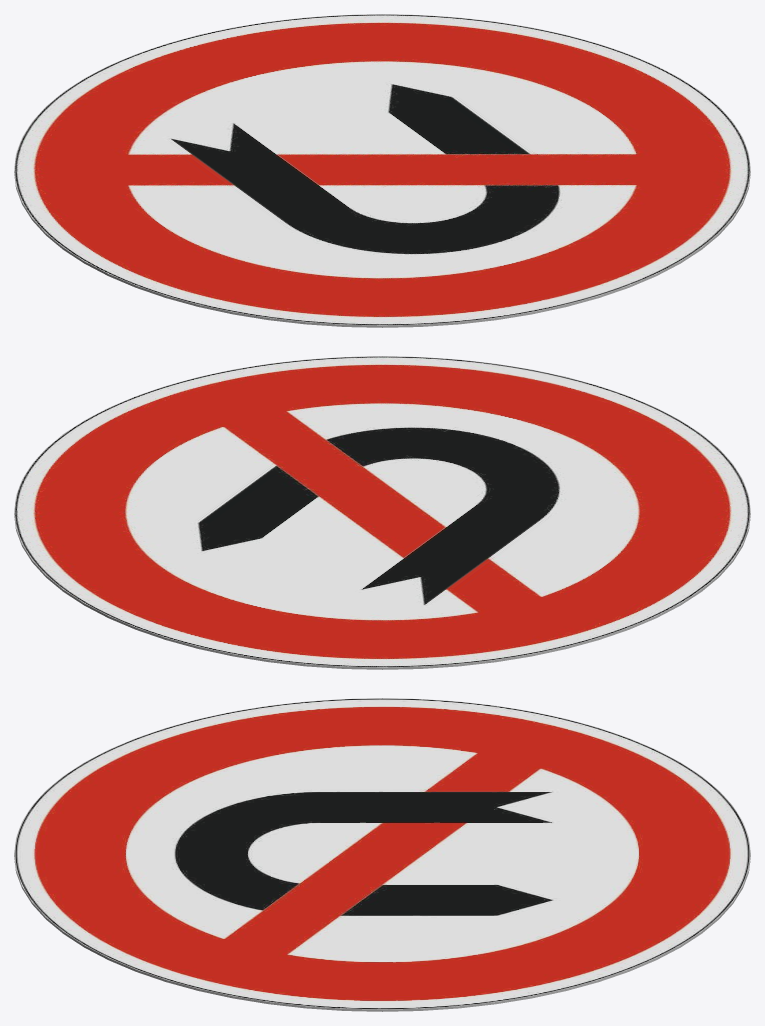
The picture shows the model from 3 angles, top to bottom: view 1: azimuth 30°, elevation 25°; view 2: azimuth 150°, elevation 25°; view 3: azimuth 270°, elevation 25°; orthographic projection.
Parts seen in each view (by area): view 1: Circle_Schild_Rund; view 2: Circle_Schild_Rund; view 3: Circle_Schild_Rund.
Part boxes in pixels (x1,y1,x2,y2): Circle_Schild_Rund: (14,14,750,327); Circle_Schild_Rund: (14,356,750,669); Circle_Schild_Rund: (14,698,750,1011).
Bounding box in the file's own units: 0.6 × 0.002 × 0.6.
Materials: 2 (1 with a texture image).
